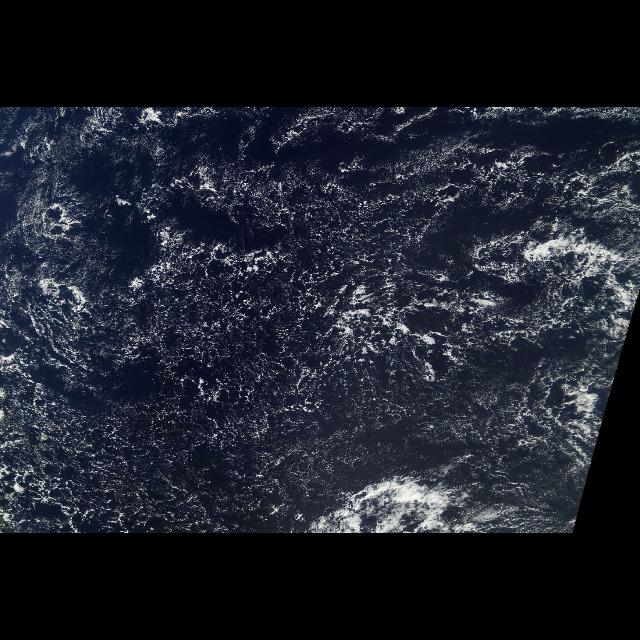Gravel: (1, 107, 639, 533)
Sugar: (1, 110, 150, 266), (282, 412, 510, 488)
